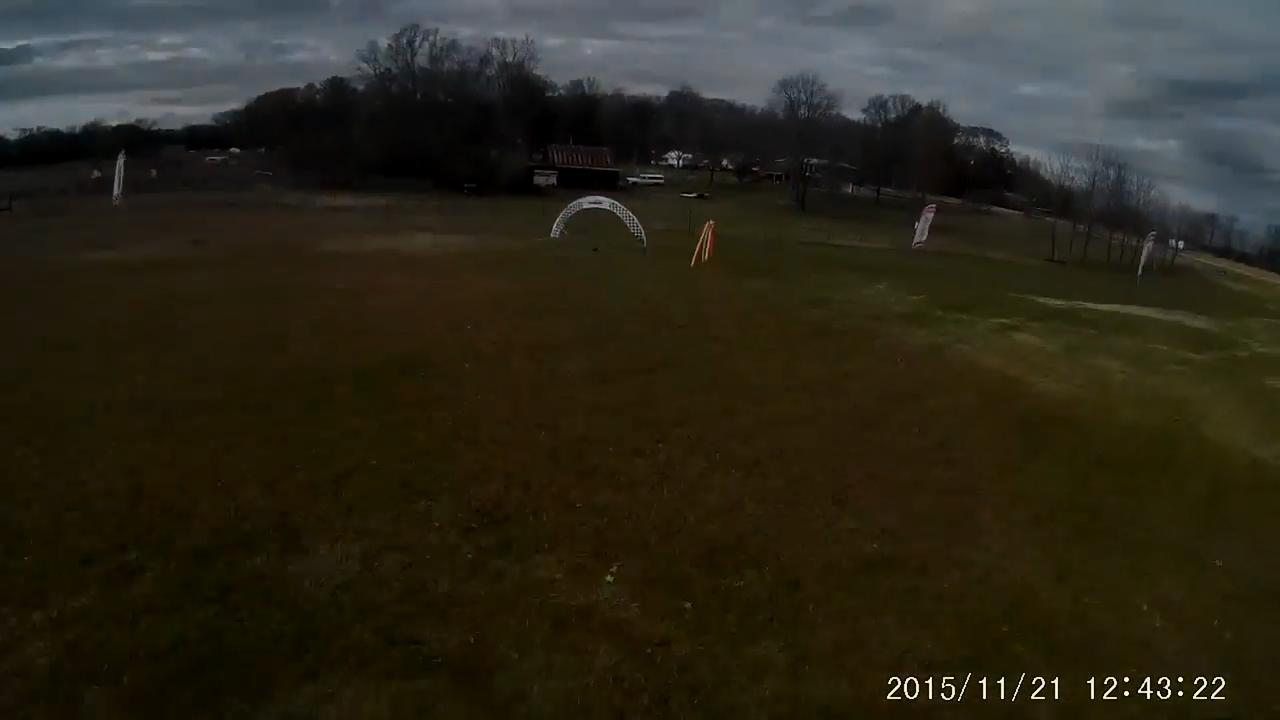gate: (547, 192, 651, 250)
